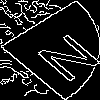N: (25, 25, 100, 84)
